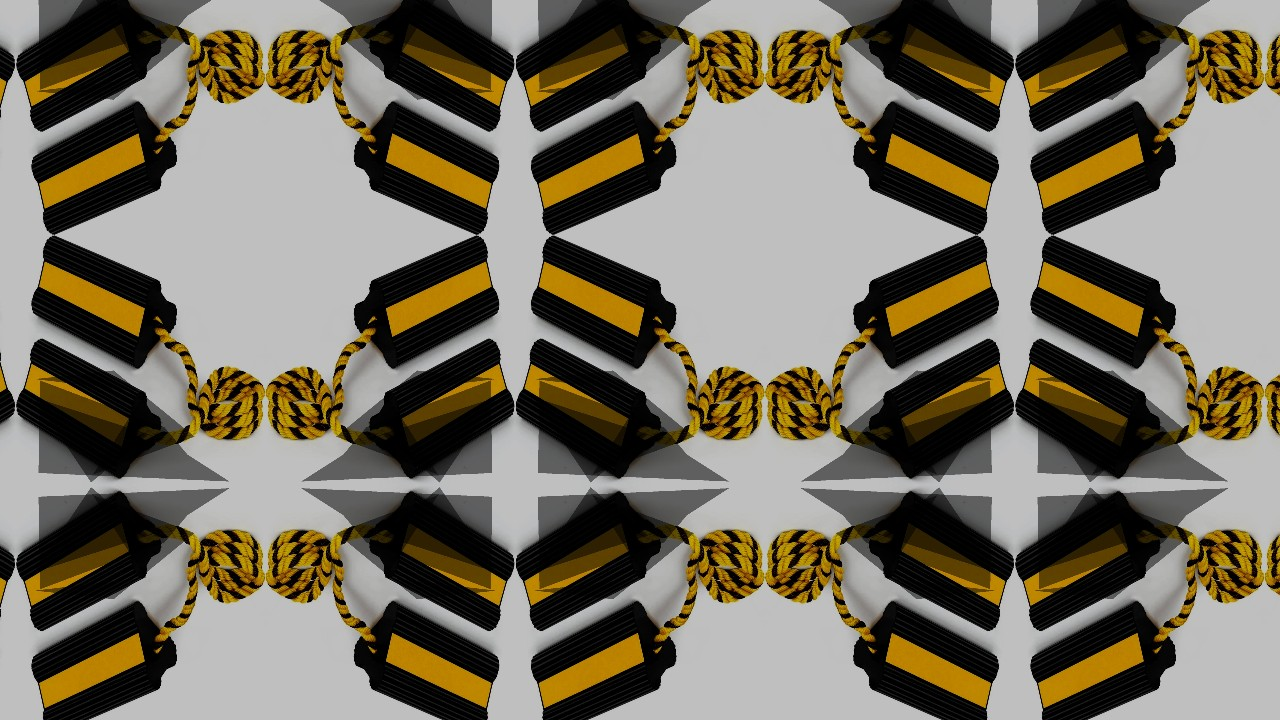chock: (15, 337, 161, 480), (369, 337, 515, 480), (515, 337, 661, 480), (869, 337, 1015, 480), (1015, 337, 1161, 480), (15, 490, 161, 633), (369, 490, 515, 633), (515, 490, 661, 633), (869, 490, 1015, 633), (1015, 490, 1161, 633), (30, 102, 178, 234), (352, 102, 500, 234), (530, 102, 678, 234), (852, 102, 1000, 234), (1030, 102, 1178, 234), (30, 236, 178, 368), (352, 236, 500, 368), (530, 236, 678, 368), (852, 236, 1000, 368), (1030, 236, 1178, 368), (15, 0, 161, 133), (369, 0, 515, 133), (515, 0, 661, 133), (869, 0, 1015, 133), (1015, 0, 1161, 133), (30, 602, 178, 720), (352, 602, 500, 720), (530, 602, 678, 720), (852, 602, 1000, 720), (1030, 602, 1178, 720), (0, 337, 15, 480), (0, 490, 15, 633), (0, 0, 15, 133)
